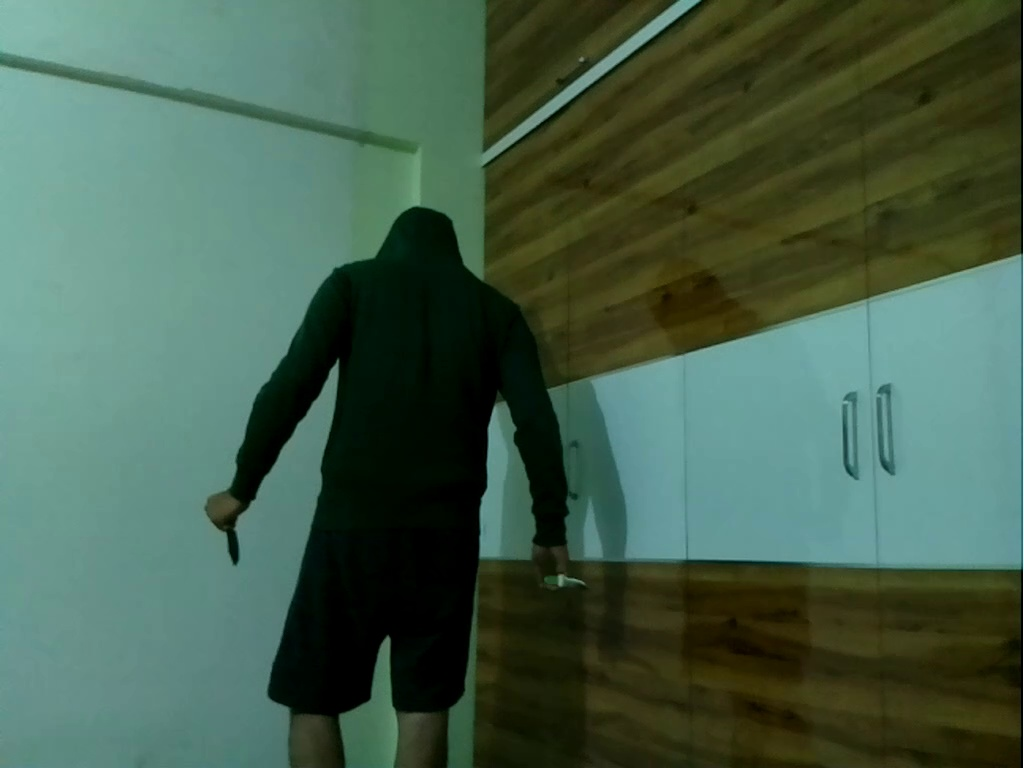knife: (210, 504, 251, 573), (533, 565, 598, 596)
